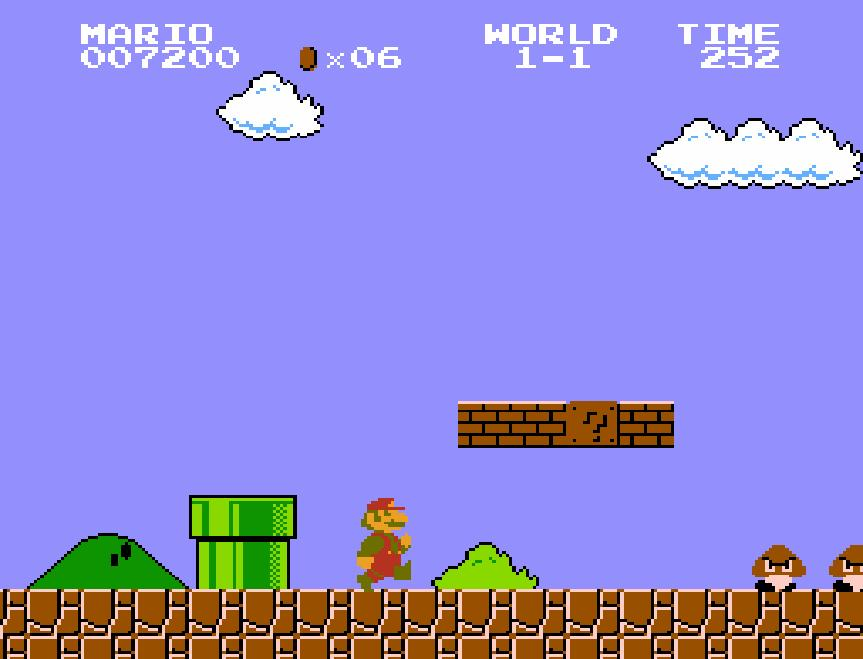big_mario: (355, 496, 413, 594)
